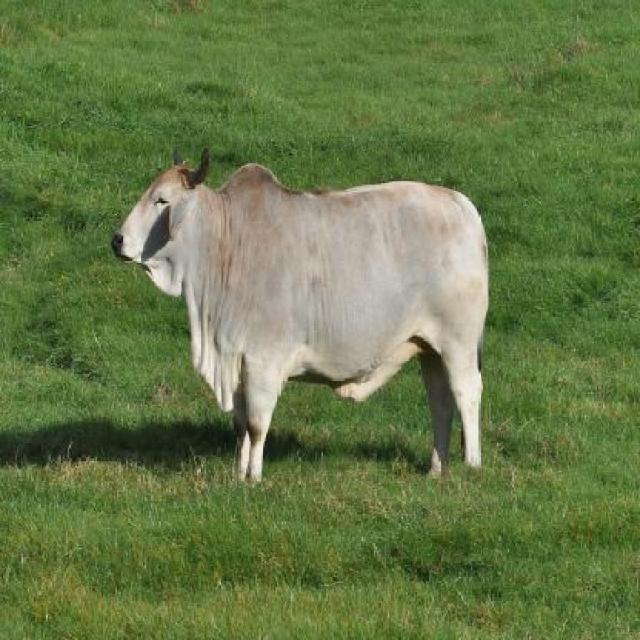Cow: (111, 151, 492, 492)
